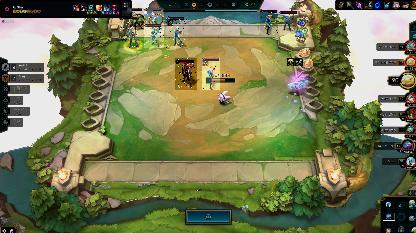1_ezreal: (280, 10, 296, 32)
1_kaisa: (144, 24, 164, 48)
1_leesin: (202, 58, 220, 90), (260, 10, 278, 36)
1_qiyana: (144, 8, 164, 24), (132, 8, 144, 30)
2_ezreal: (166, 16, 188, 48)
2_karma: (120, 18, 138, 48)
2_sett: (175, 58, 197, 90)
